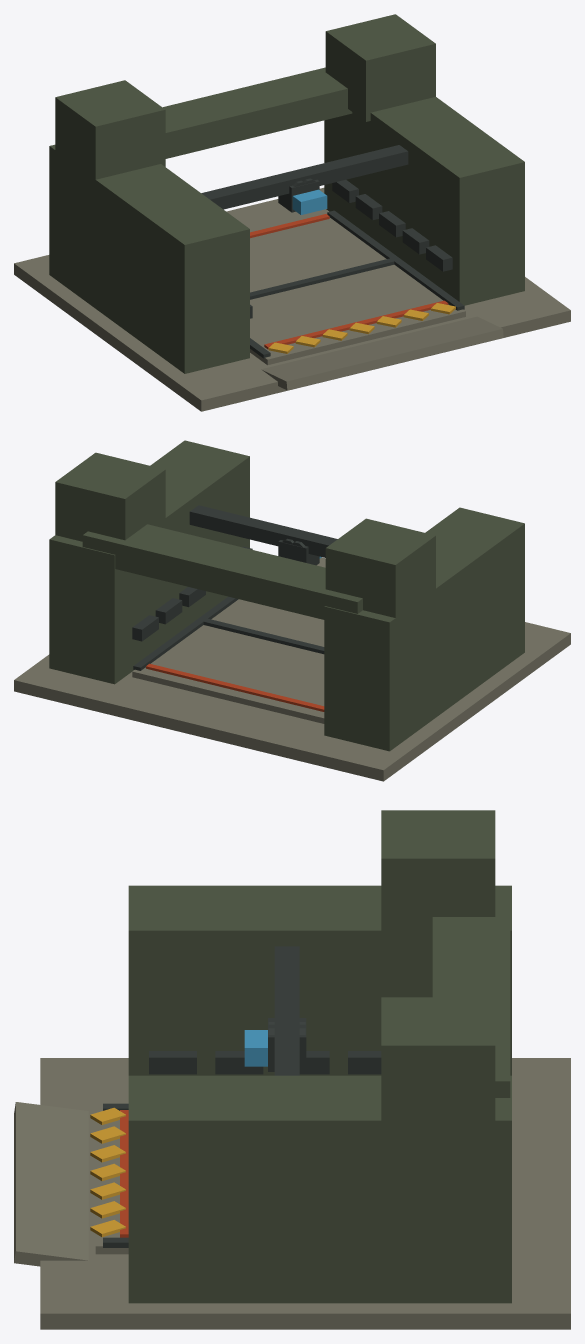
File: Bastion_RepairBay_Static.obj
3 renders of one model, top to bottom at view 1: azimuth 30°, elevation 25°; view 2: azimuth 150°, elevation 25°; view 3: azimuth 270°, elevation 25°, orthographic. The views are drawn at different scales.
Visible parts, largest first — view 1: Bastion_RepairBay_Static; view 2: Bastion_RepairBay_Static; view 3: Bastion_RepairBay_Static.
Part boxes in pixels (x1,y1,x2,y2): Bastion_RepairBay_Static: (14,14,570,411); Bastion_RepairBay_Static: (14,440,570,781); Bastion_RepairBay_Static: (14,810,570,1329).
Bounding box in the file's own units: 8.2 × 4.1 × 7.56.
Materials: 1 (1 with a texture image).
